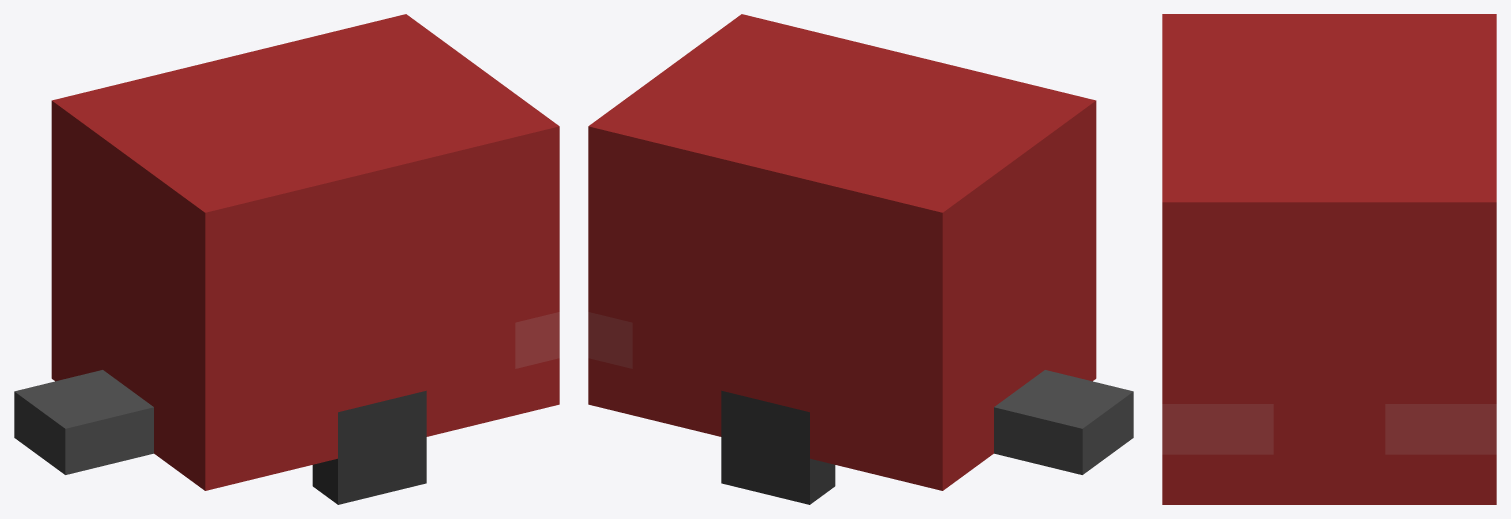
File: car-trailer-v2-red.gltf
The picture shows the model from 3 angles, left to right: view 1: azimuth 30°, elevation 25°; view 2: azimuth 150°, elevation 25°; view 3: azimuth 270°, elevation 25°; orthographic projection. The views are drawn at different scales.
Visible parts, largest first — view 1: model, wheels; view 2: model, wheels; view 3: model.
Part boxes in pixels (bbox=[...]): model: bbox=[14, 14, 559, 490]; wheels: bbox=[312, 390, 426, 504]; model: bbox=[588, 14, 1133, 490]; wheels: bbox=[721, 390, 835, 504]; model: bbox=[1162, 14, 1496, 504].
Size of the model in its own units: 1 by 0.7 by 0.6.
2 materials, 2 textured.
